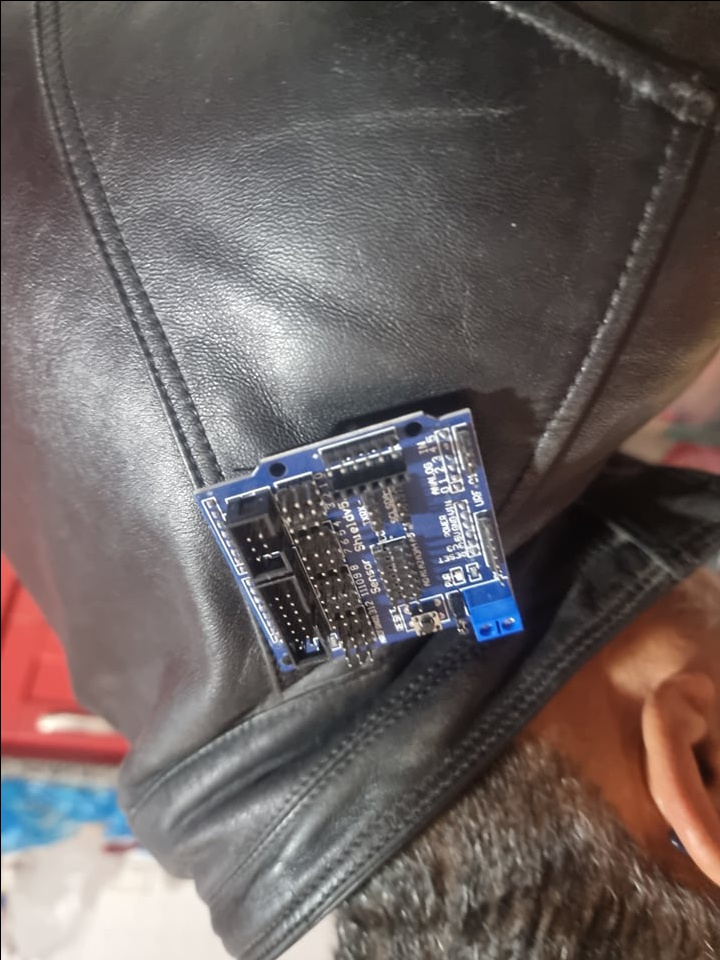5V EXPANSION: (195, 400, 524, 673)
